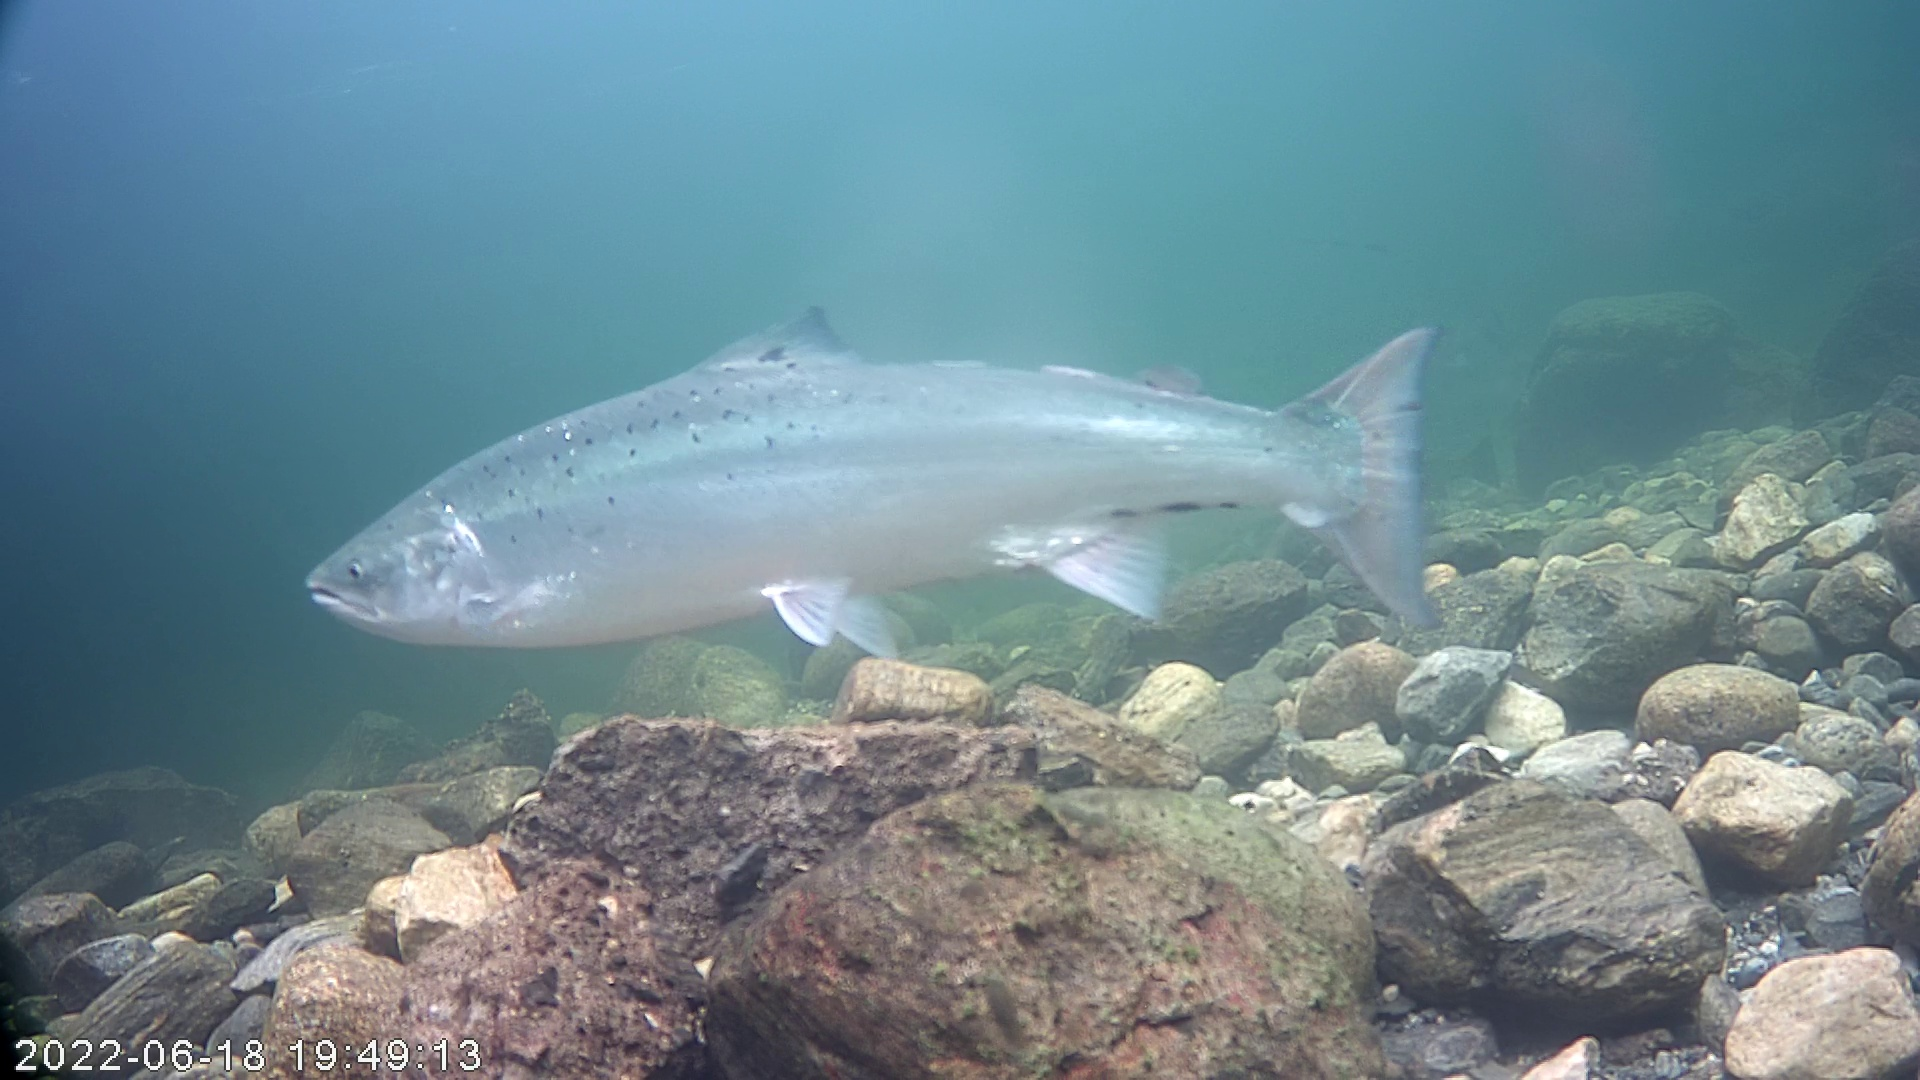salmon: (301, 301, 1443, 662)
